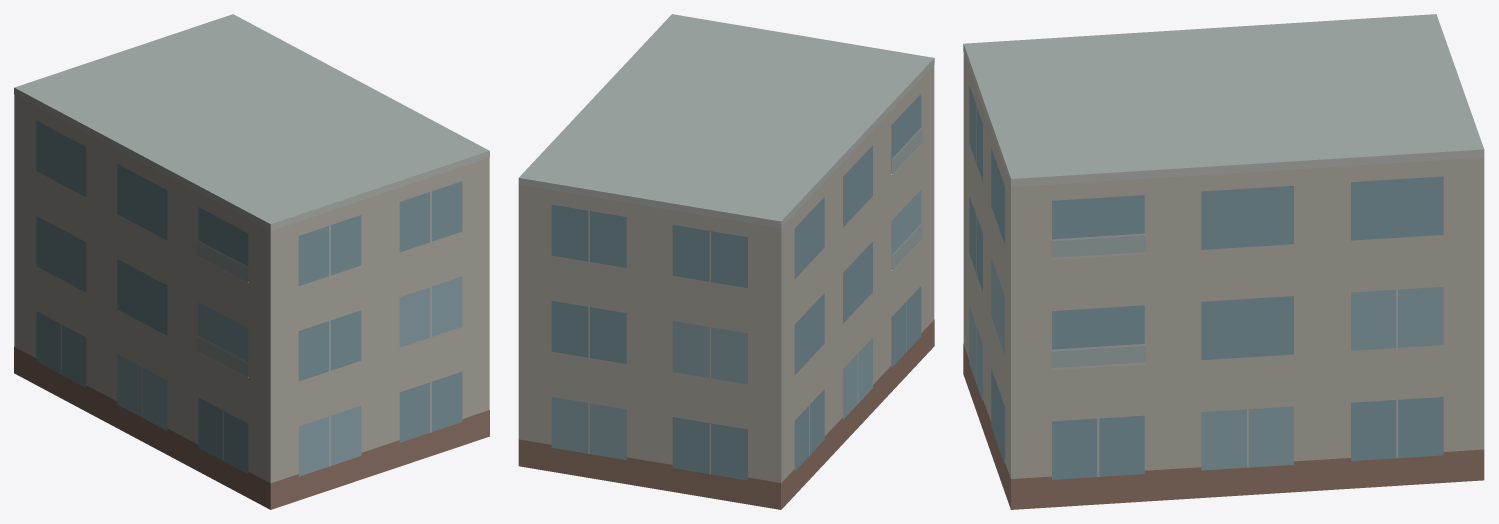
File: survey-upis-32523887.glb
3 renders of one model, left to right at view 1: azimuth 30°, elevation 25°; view 2: azimuth 150°, elevation 25°; view 3: azimuth 270°, elevation 25°, orthographic. The views are drawn at different scales.
Parts seen in each view (by area): view 1: survey-upis-32523887.tmp; view 2: survey-upis-32523887.tmp; view 3: survey-upis-32523887.tmp.
Boxes of the visible parts, x1,y1,x2,y2 form: survey-upis-32523887.tmp: (14, 14, 489, 509); survey-upis-32523887.tmp: (518, 14, 934, 509); survey-upis-32523887.tmp: (963, 14, 1484, 509).
Bounding box in the file's own units: 10.92 × 10.2 × 14.56.
